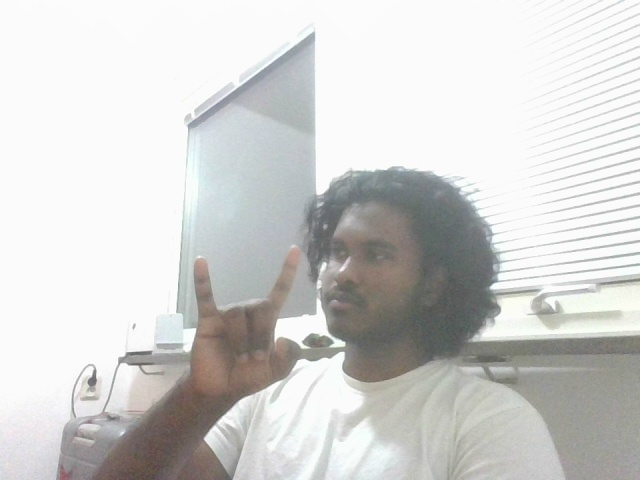I Love You: (179, 244, 315, 413)
